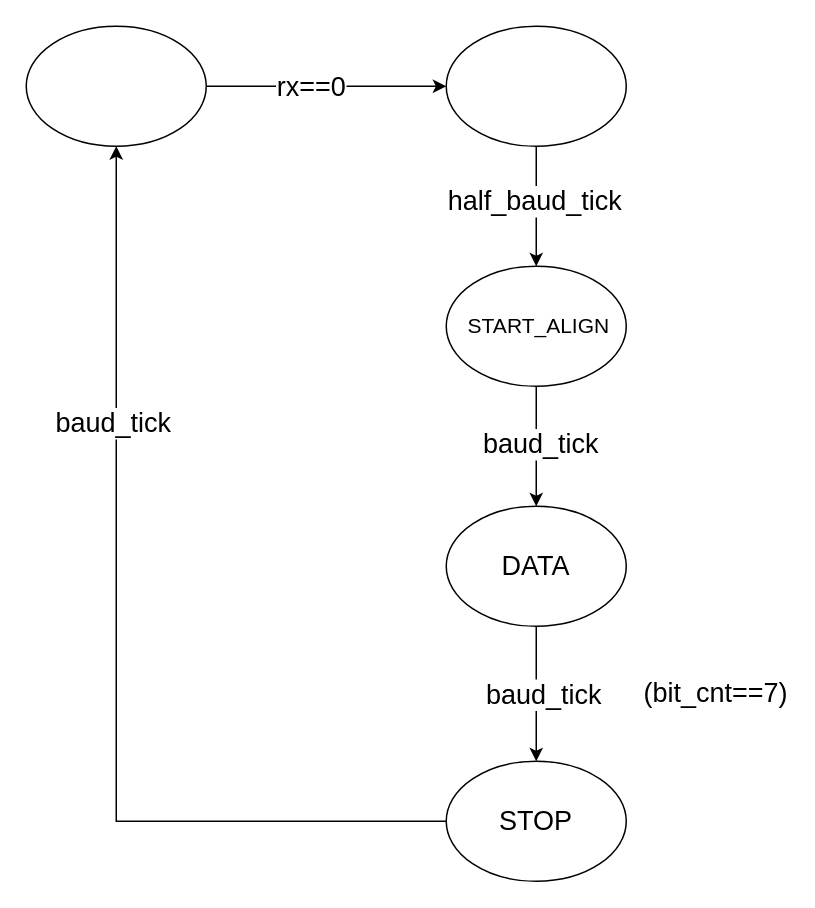
This 815x908 diagram has some shape labels left out. The shapes that lost their labels are listed below. From the top down, each one's box as (x1, y1, x2, y2) in pixels, then its label:
(25, 25, 206, 146): IDLE
(445, 25, 626, 146): START
